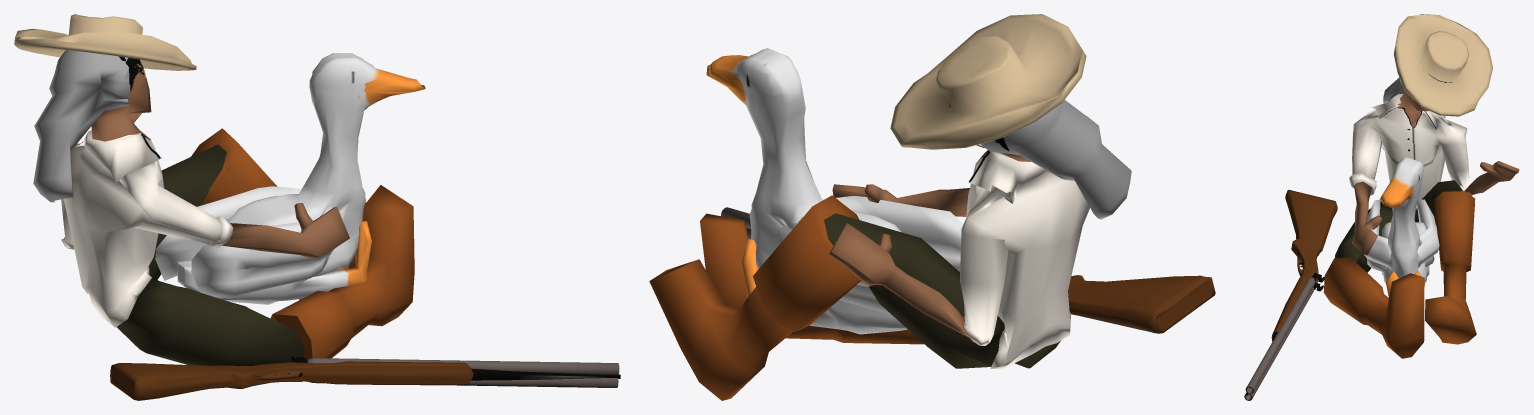
The model's file is bowmari_5.obj.
3 views of the same model, side by side, from view 1: azimuth 30°, elevation 25°; view 2: azimuth 150°, elevation 25°; view 3: azimuth 270°, elevation 25° (orthographic). The views are drawn at different scales.
Parts seen in each view (by area): view 1: Default_Body_Cube, Cube.005, SHOTGUN_Cube.007, Hair_Cube.004, Hat_Cylinder; view 2: Default_Body_Cube, Cube.005, Hat_Cylinder, Hair_Cube.004, SHOTGUN_Cube.007; view 3: Default_Body_Cube, Hat_Cylinder, Cube.005, SHOTGUN_Cube.007, Hair_Cube.004.
Part boxes in pixels (bbox=[...]): Default_Body_Cube: bbox=[61, 56, 414, 381]; Cube.005: bbox=[155, 53, 425, 304]; SHOTGUN_Cube.007: bbox=[110, 356, 620, 400]; Hair_Cube.004: bbox=[33, 50, 130, 202]; Hat_Cylinder: bbox=[14, 14, 196, 70]; Default_Body_Cube: bbox=[649, 137, 1089, 400]; Cube.005: bbox=[706, 48, 963, 334]; Hat_Cylinder: bbox=[890, 14, 1086, 149]; Hair_Cube.004: bbox=[981, 100, 1131, 219]; SHOTGUN_Cube.007: bbox=[721, 207, 1215, 333]; Default_Body_Cube: bbox=[1323, 79, 1519, 358]; Hat_Cylinder: bbox=[1393, 14, 1492, 116]; Cube.005: bbox=[1364, 157, 1439, 297]; SHOTGUN_Cube.007: bbox=[1244, 190, 1337, 400]; Hair_Cube.004: bbox=[1383, 62, 1421, 102].
Bounding box in the file's own units: 6.91 × 5.22 × 5.24.
